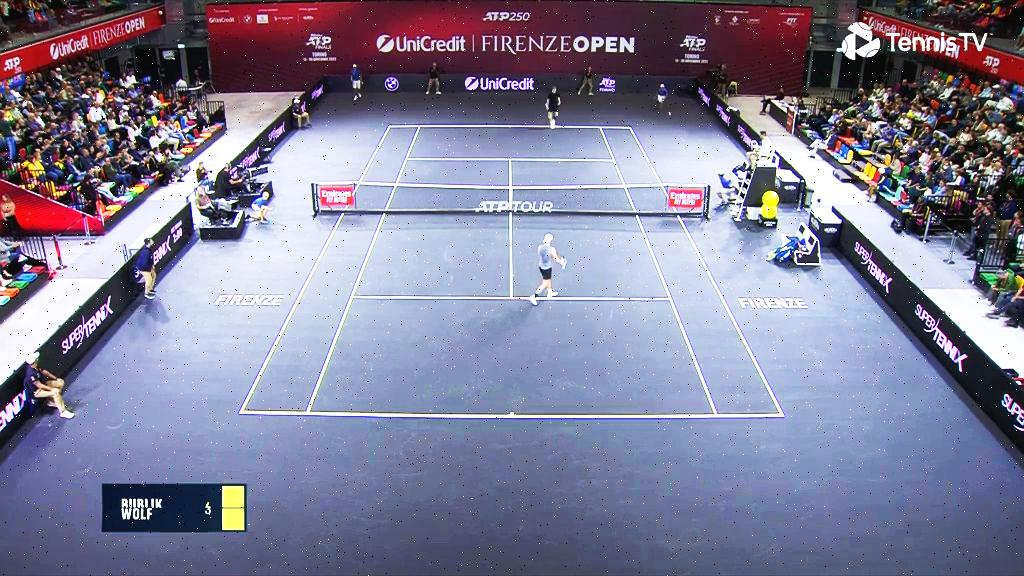tennis-court: (239, 126, 786, 418)
